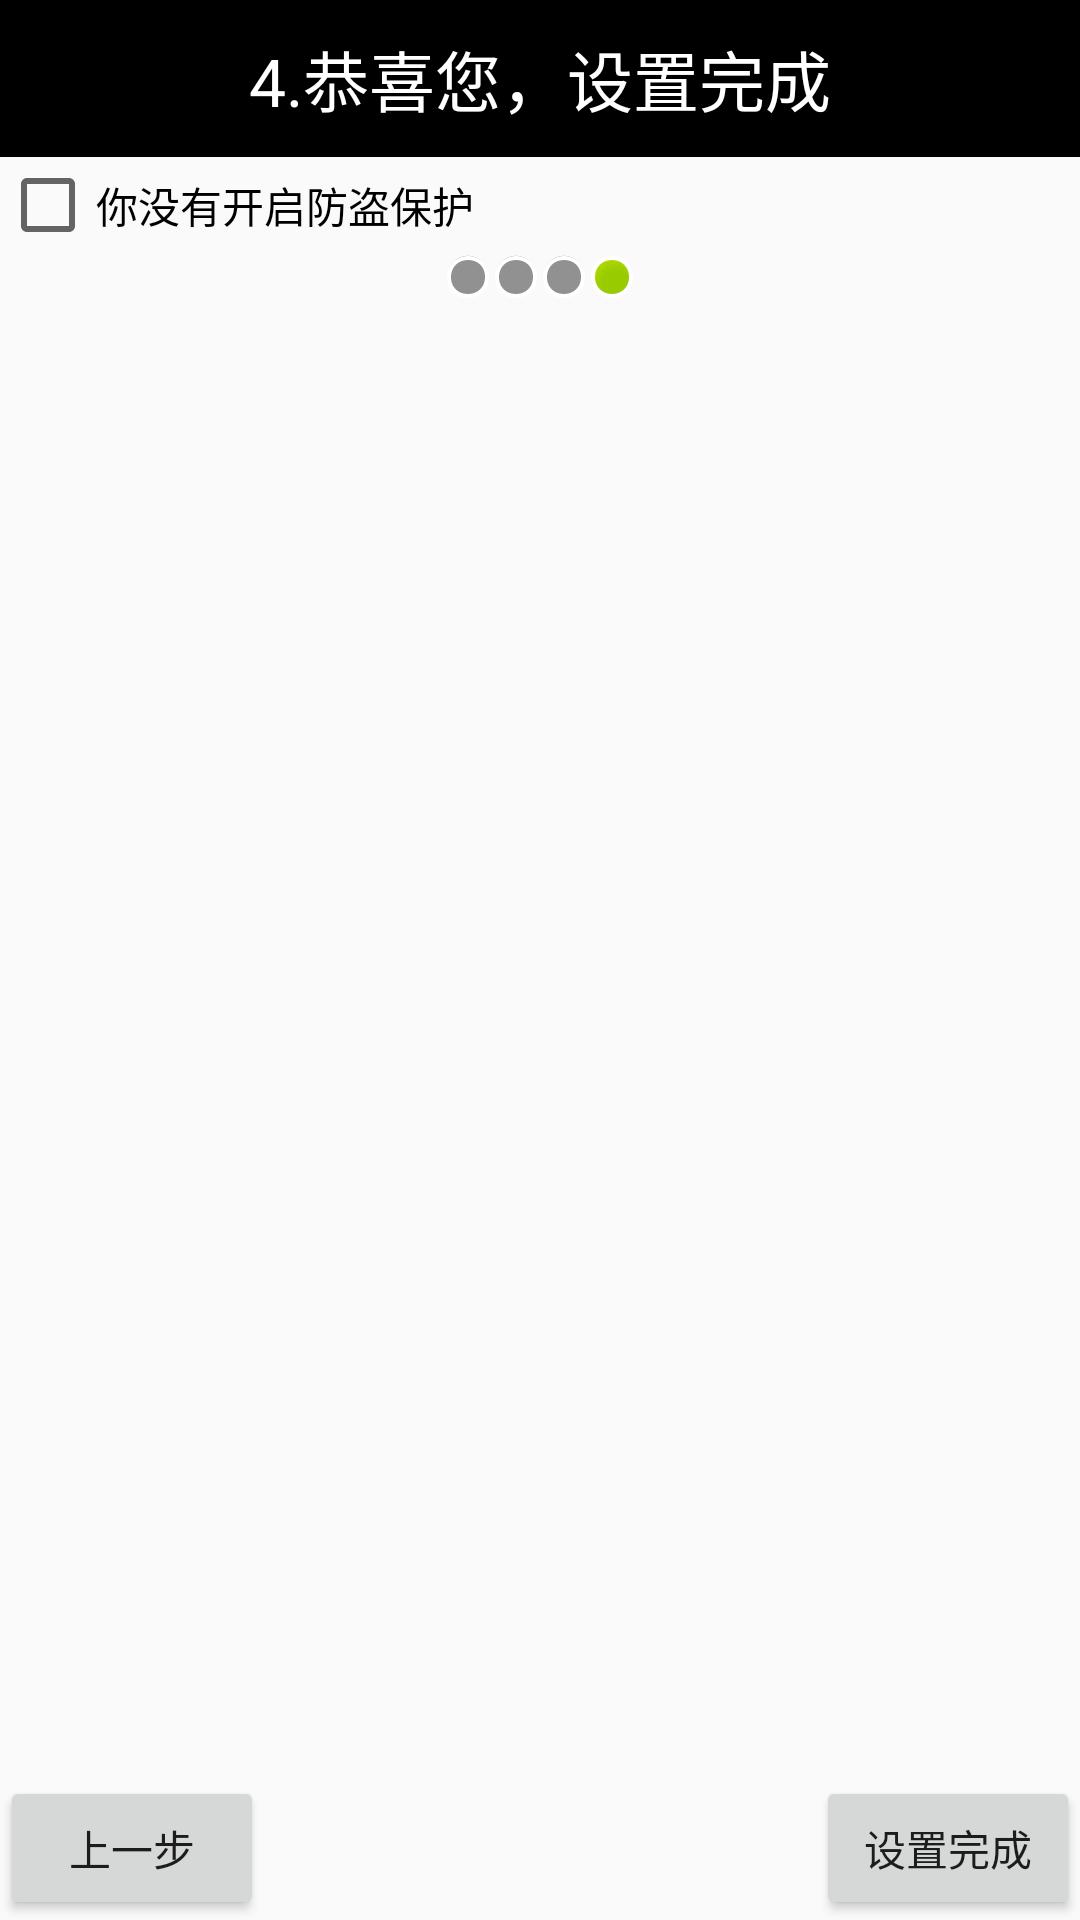

Icon bounding boxes for this 1080px x 1920px phone screenshot, format (x1, y1, x2, y2):
presence invisible: (451, 256, 485, 294), (499, 256, 533, 294), (547, 256, 581, 294)
presence online: (595, 260, 629, 294)
